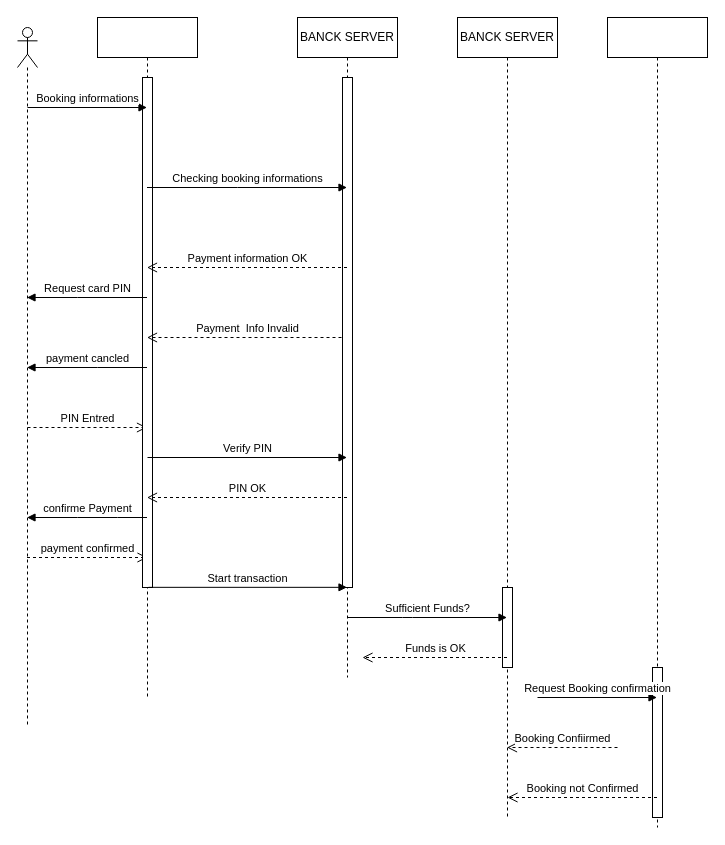
Some shapes in this 725 by 845 pixel diagram are drawn without their labels. Each missing label, with the box of its shape:
BOOKING PAGE: (96, 16, 198, 698)
COMPANY: (606, 16, 708, 828)
